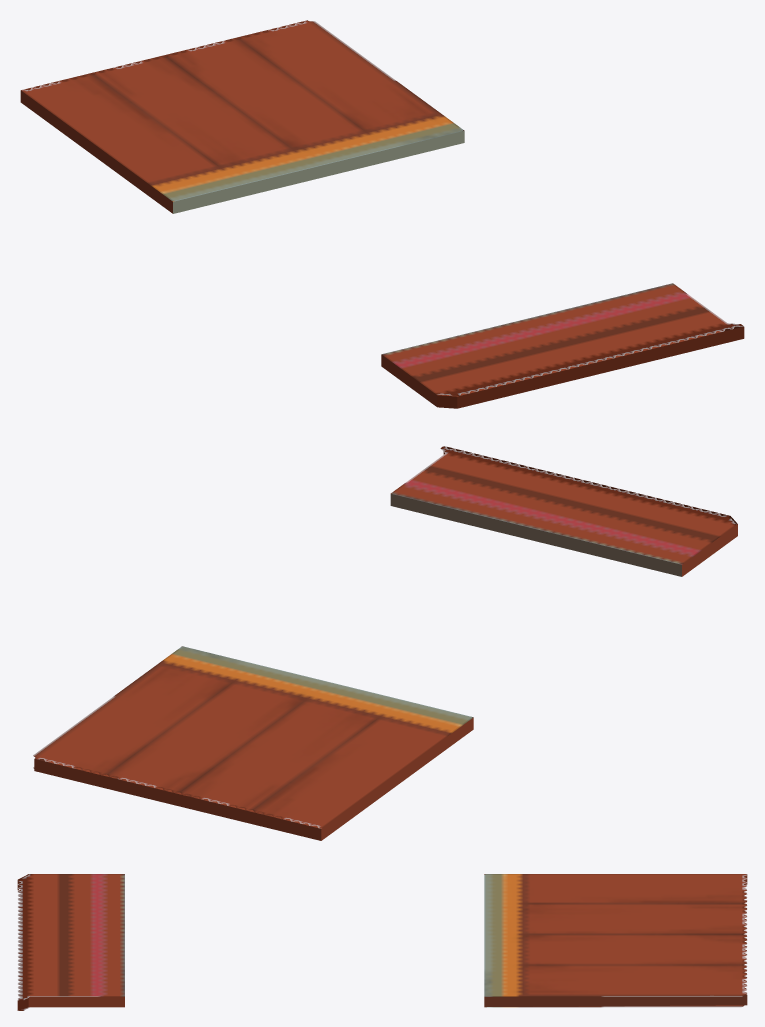
The model's file is pz_native_location_restaurant_spiffos_01_18_frame.obj.
3 renders of one model, top to bottom at view 1: azimuth 30°, elevation 25°; view 2: azimuth 150°, elevation 25°; view 3: azimuth 270°, elevation 25°, orthographic. The views are drawn at different scales.
Parts seen in each view (by area): view 1: pz_native_location_restaurant_spiffos_01_18_frame; view 2: pz_native_location_restaurant_spiffos_01_18_frame; view 3: pz_native_location_restaurant_spiffos_01_18_frame.
Part boxes in pixels (box(x1,y1,x2,y2)): pz_native_location_restaurant_spiffos_01_18_frame: box(20, 20, 744, 408); pz_native_location_restaurant_spiffos_01_18_frame: box(33, 446, 737, 840); pz_native_location_restaurant_spiffos_01_18_frame: box(17, 874, 747, 1010).
Size of the model in its own units: 1.06 by 0.04 by 2.54.
Materials: 1 (1 with a texture image).
